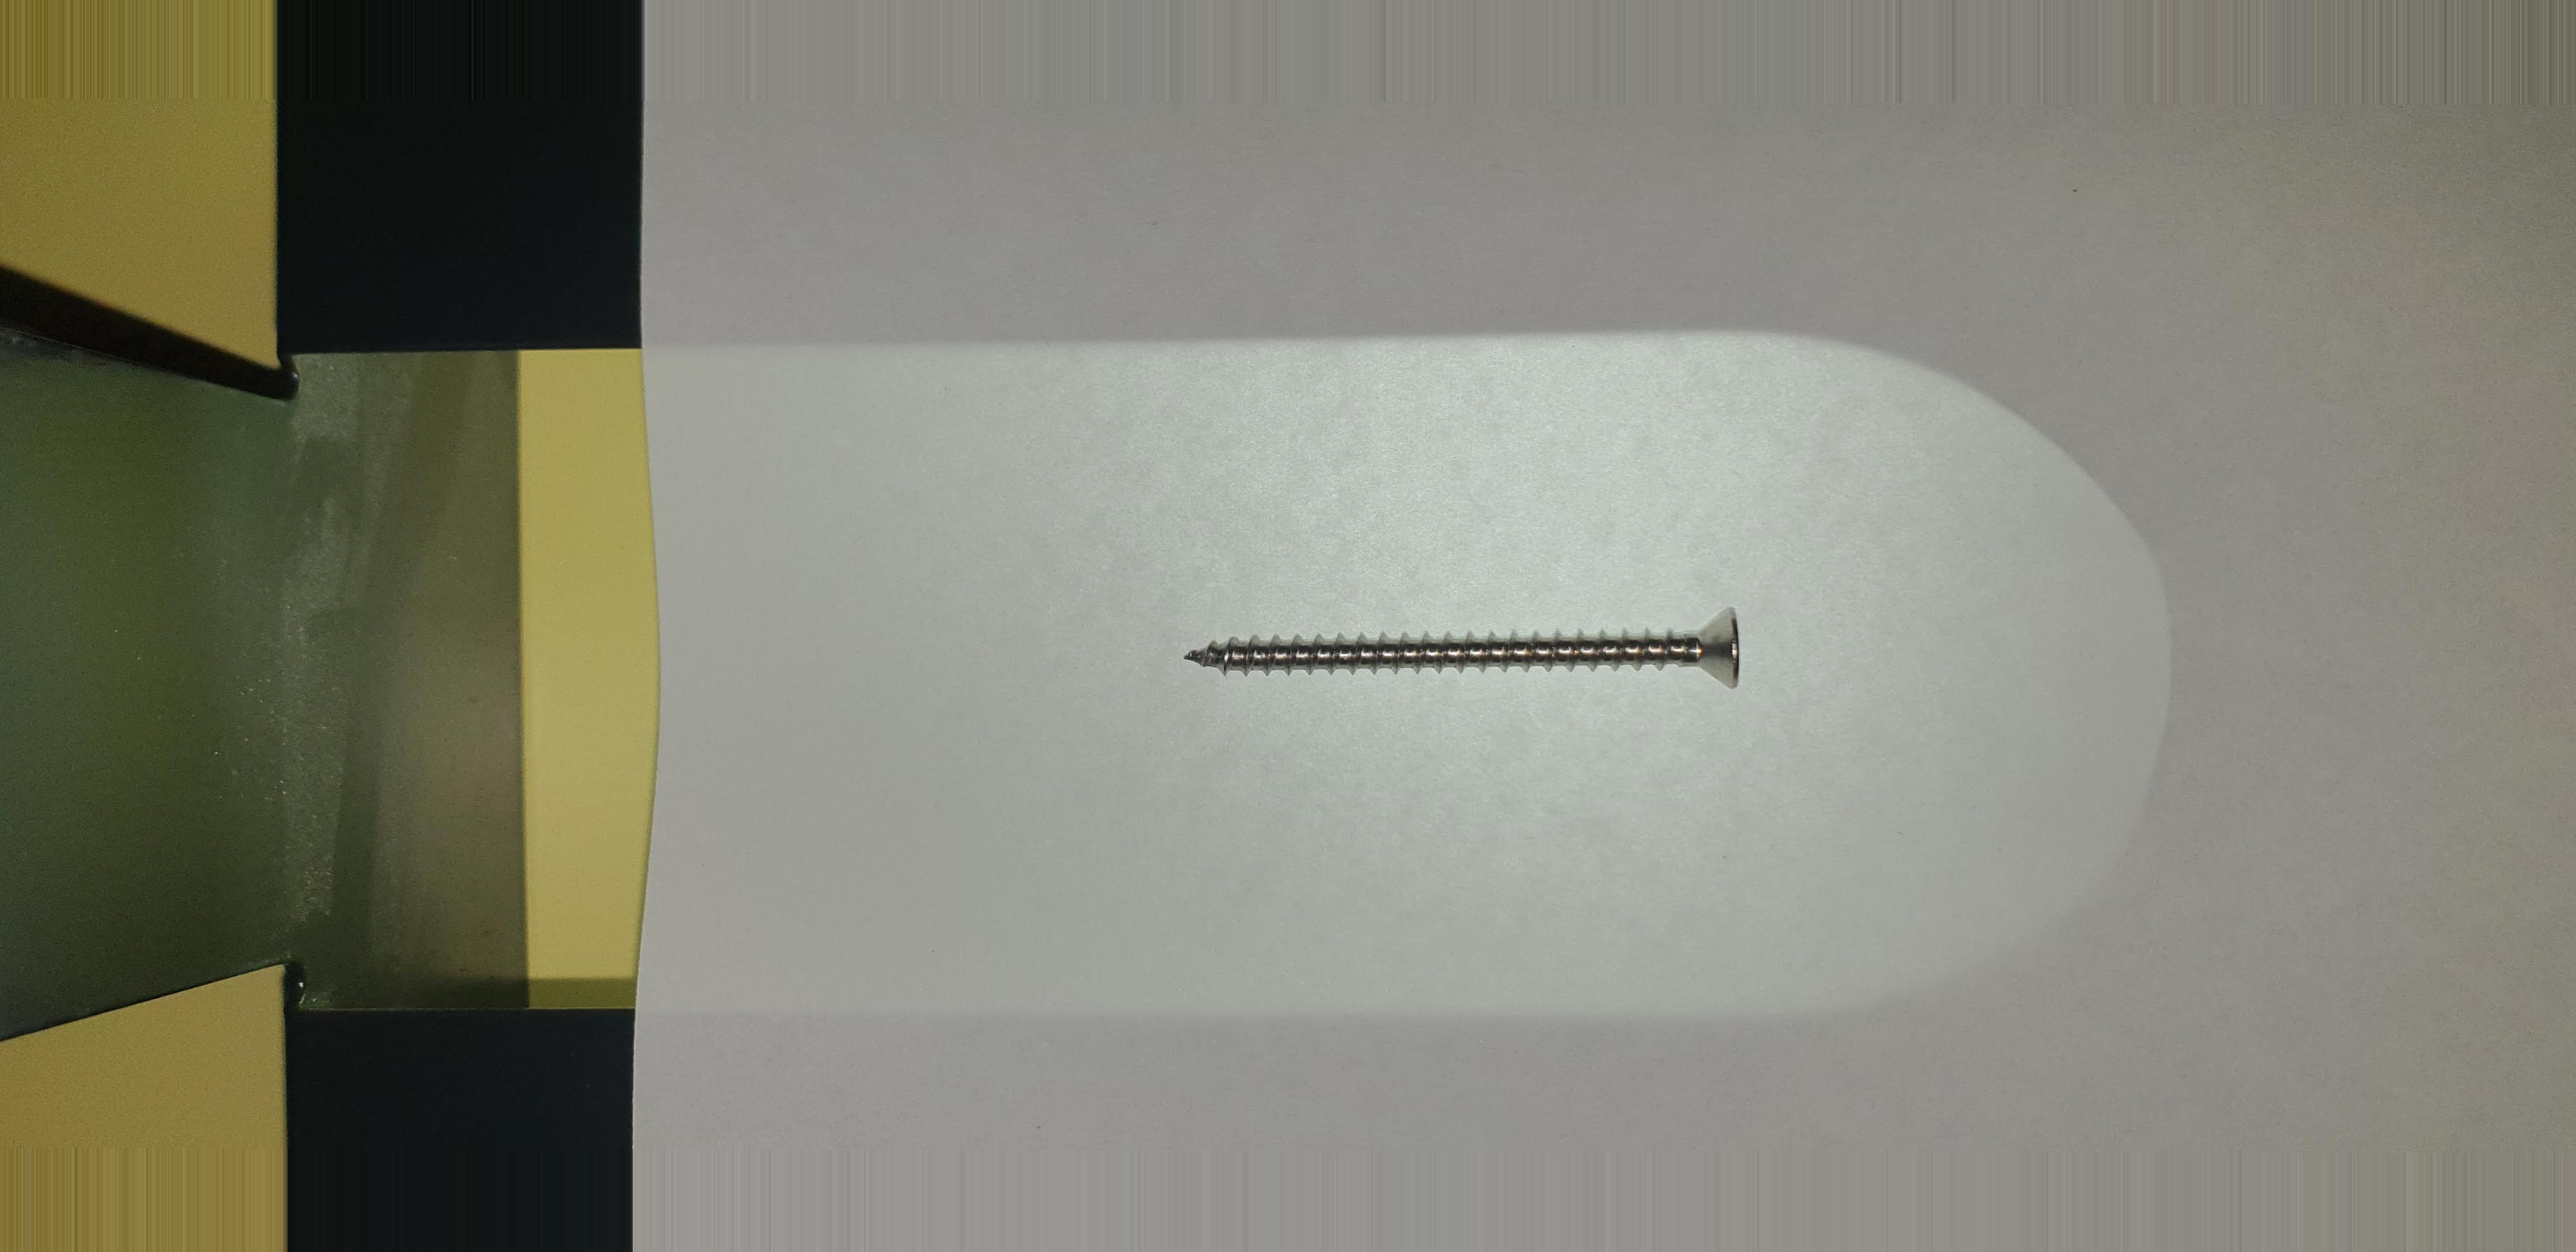fastener: (1173, 560, 1891, 744)
